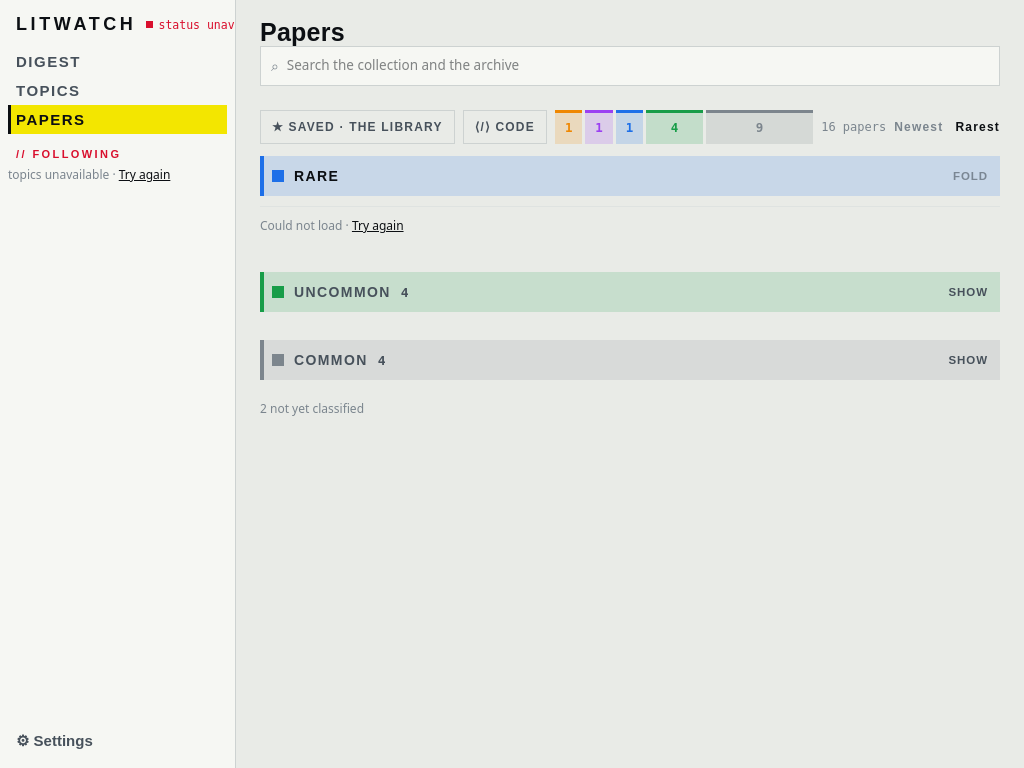
Papers › says when a shelf could not load and tries again on request
Expected: the text "Could not load · Try again" is shown, [260,217,404,234]
Click the button "Try again" next to "Could not load". click: (378, 226)
box: [352,217,404,234]
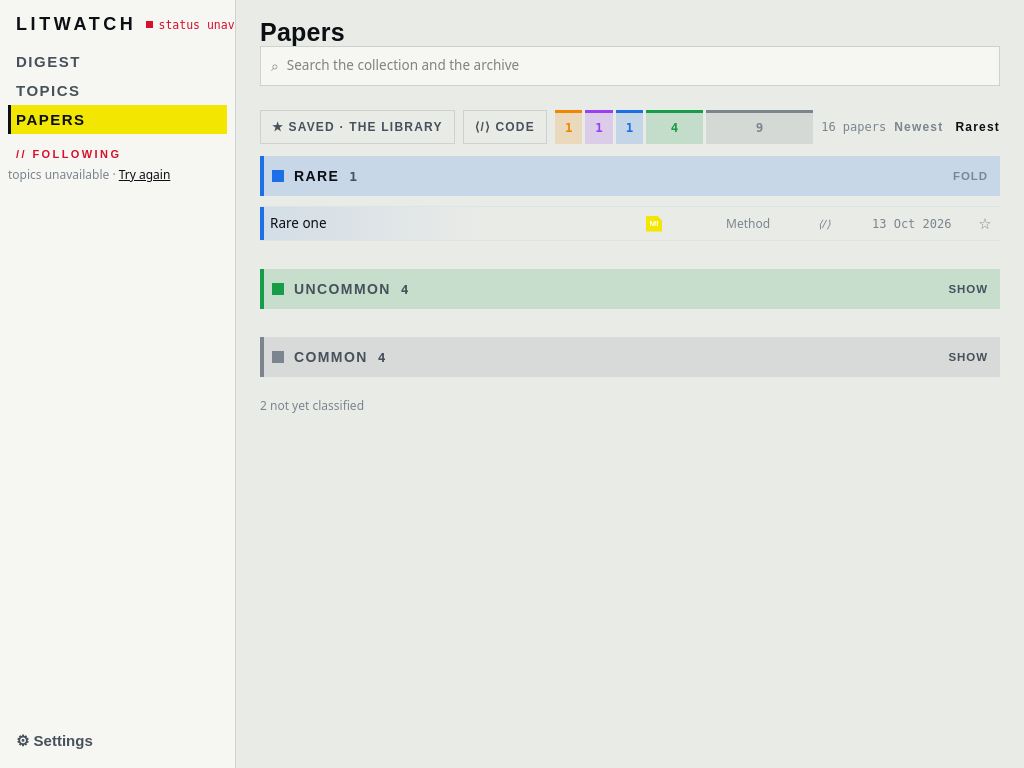
Expected: the text "Rare one" is shown, [270,214,326,232]
